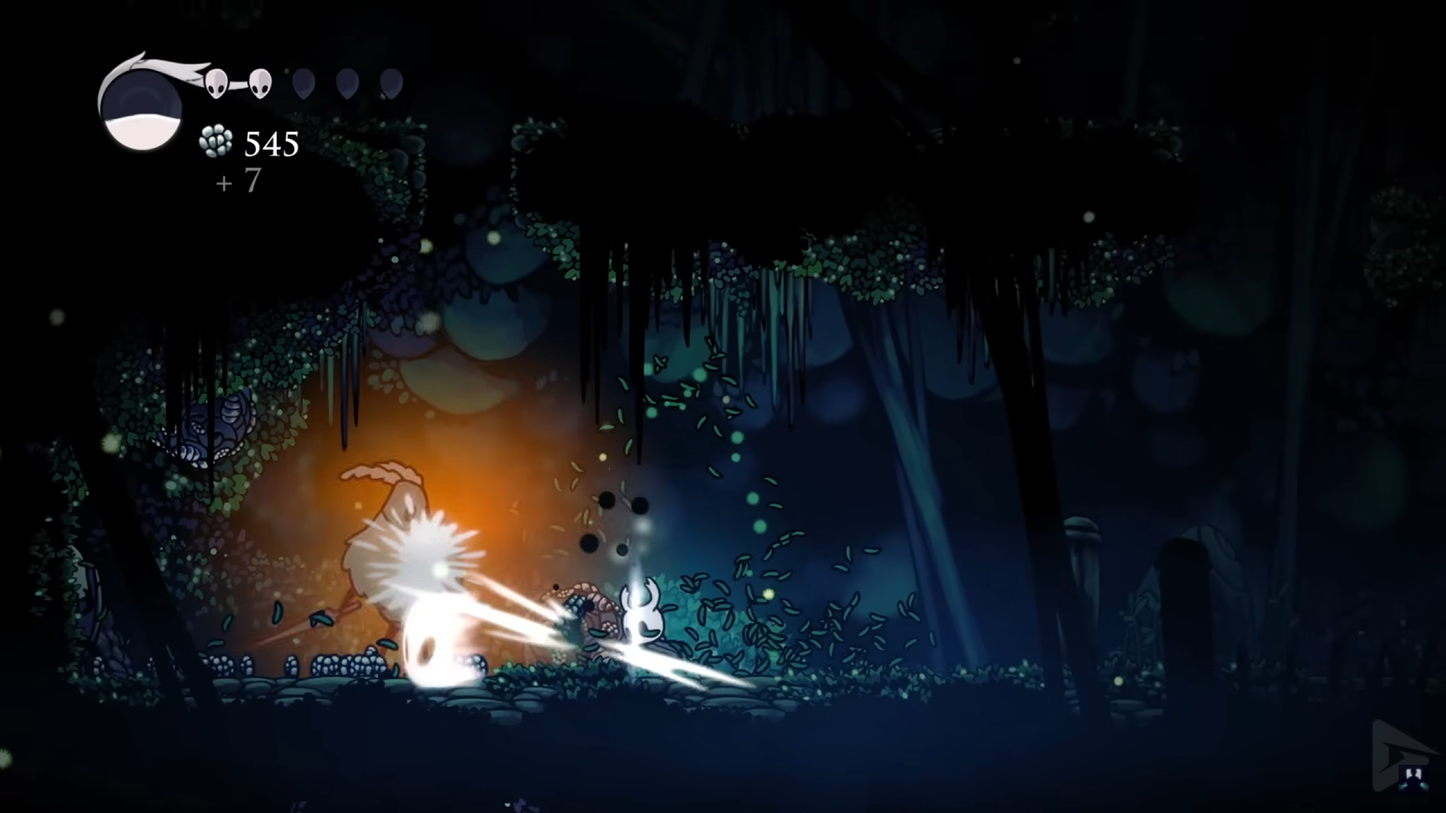HK: (621, 578, 684, 688)
